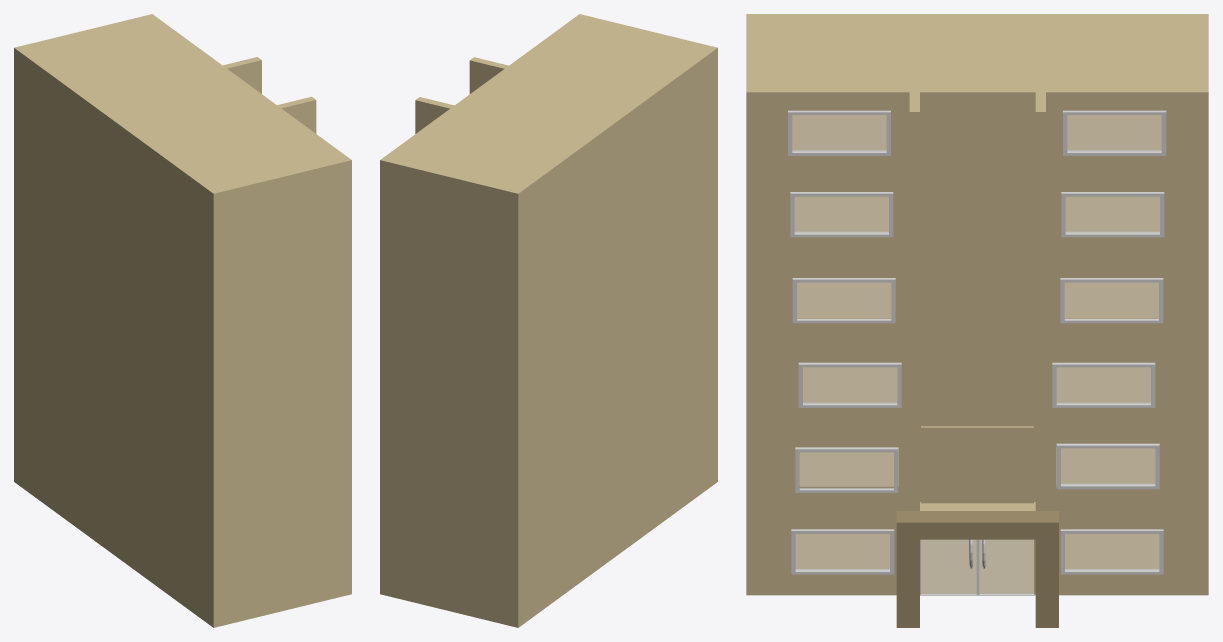
3 renders of one model, left to right at view 1: azimuth 30°, elevation 25°; view 2: azimuth 150°, elevation 25°; view 3: azimuth 270°, elevation 25°, orthographic. The views are drawn at different scales.
Visible parts, largest first — view 1: 立方体, 立方体.001, 立方体.002; view 2: 立方体, 立方体.001, 立方体.002; view 3: 立方体, 立方体.001, 立方体.006, 立方体.002, 立方体.014, 立方体.013, 立方体.008, 立方体.009, 立方体.010, 立方体.012, 立方体.015, 立方体.016 (+4 smaller).
Boxes of the visible parts, box(x1,y1,x2,y2) form: 立方体: box(14, 14, 351, 627); 立方体.001: box(277, 96, 316, 133); 立方体.002: box(223, 57, 261, 93); 立方体: box(380, 14, 717, 627); 立方体.001: box(469, 57, 508, 93); 立方体.002: box(415, 97, 454, 133); 立方体: box(746, 14, 1208, 595); 立方体.001: box(896, 92, 1035, 627); 立方体.006: box(791, 529, 1163, 574); 立方体.002: box(1035, 92, 1058, 627); 立方体.014: box(1056, 443, 1159, 489); 立方体.013: box(795, 447, 898, 492); 立方体.008: box(798, 362, 901, 407); 立方体.009: box(792, 278, 895, 323); 立方体.010: box(790, 192, 893, 237); 立方体.012: box(1052, 362, 1155, 407); 立方体.015: box(1060, 278, 1163, 323); 立方体.016: box(1061, 192, 1164, 237).
Size of the model in its own units: 8.43 by 18.04 by 15.
